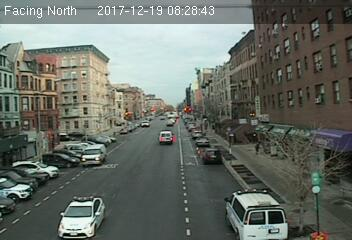car: (202, 147, 224, 163), (196, 137, 209, 146)
police: (224, 189, 294, 240), (55, 194, 109, 239)
truck: (81, 145, 107, 163), (159, 130, 173, 143)
